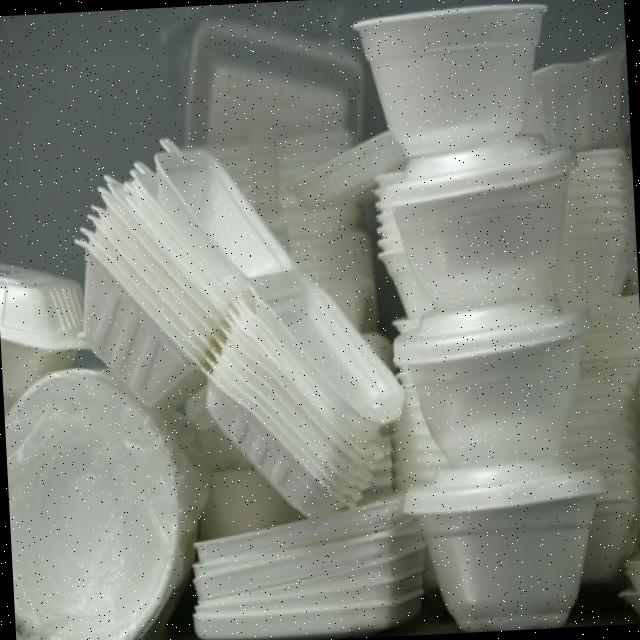styrofoam: (0, 0, 640, 640), (69, 124, 411, 532)
